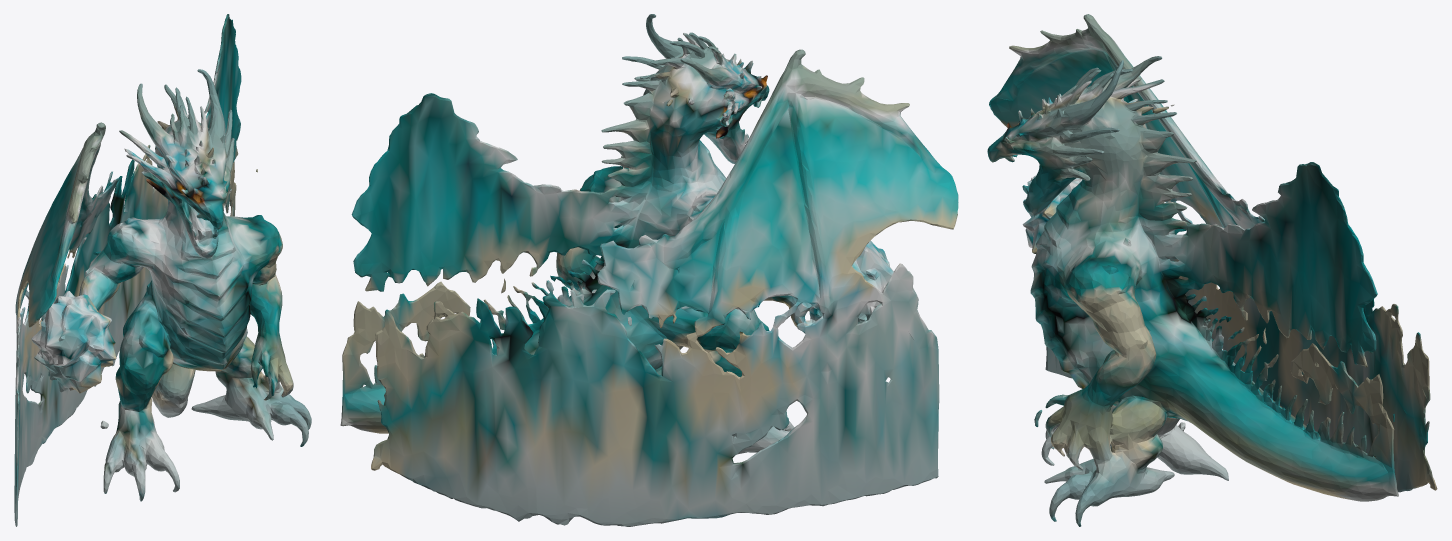
The model's file is unicorn.glb.
3 renders of one model, left to right at view 1: azimuth 30°, elevation 25°; view 2: azimuth 150°, elevation 25°; view 3: azimuth 270°, elevation 25°, orthographic. The views are drawn at different scales.
Parts seen in each view (by area): view 1: world; view 2: world; view 3: world.
Part boxes in pixels (x1,y1,x2,y2): world: (14,14,311,526); world: (340,14,958,526); world: (987,14,1437,526).
Bounding box in the file's own units: 1 × 1 × 0.9312.
